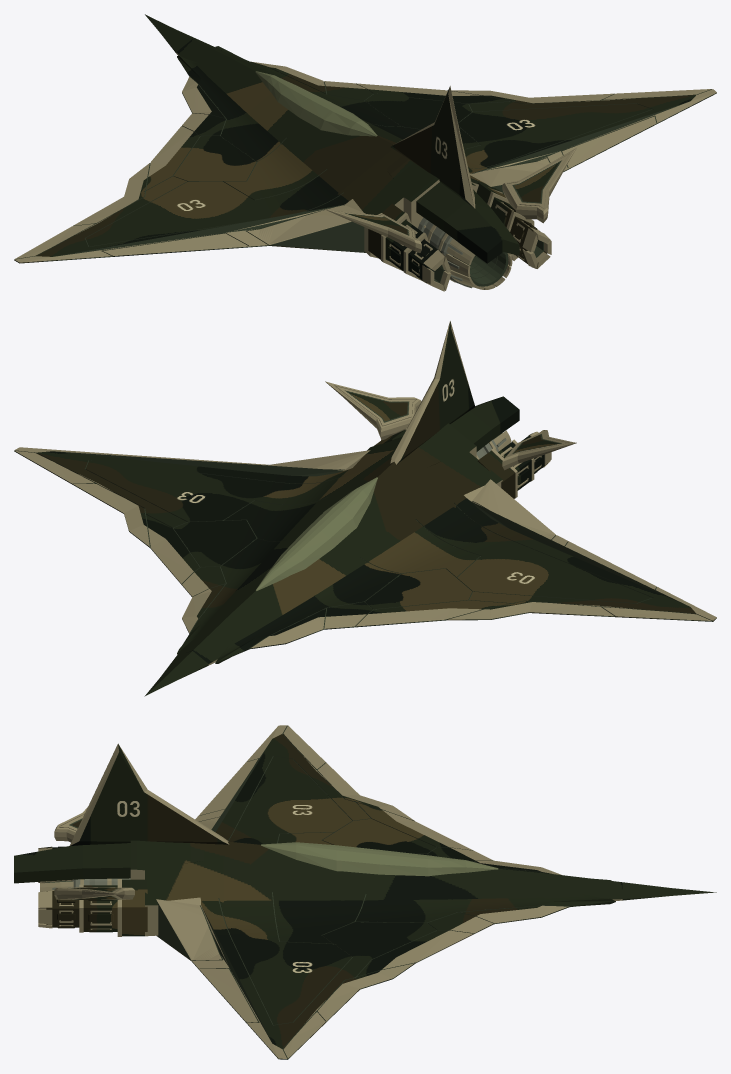
The model's file is A_military.glb.
3 renders of one model, top to bottom at view 1: azimuth 30°, elevation 25°; view 2: azimuth 150°, elevation 25°; view 3: azimuth 270°, elevation 25°, orthographic. The views are drawn at different scales.
Parts seen in each view (by area): view 1: AF_MAIN_WING_L_01, AF_MAIN_WING_R_01, AF_BODY_01, AF_MATCH_AFT_SADDLE, AF_TAIL_CENTER_01, AF_DOME_CENTER_01, AF_REAR_WING_R1_R_reference_kite_outward_canted, AF_PENTAGON_L_STEPPED_HOUSING, AF_REAR_WING_R1_R_reference_kite_outward_canted_L, AF_ENGINE_THERMAL_LINER, AF_PENTAGON_R_STEPPED_HOUSING; view 2: AF_MAIN_WING_L_01, AF_MAIN_WING_R_01, AF_BODY_01, AF_TAIL_CENTER_01, AF_DOME_CENTER_01, AF_MATCH_AFT_SADDLE, AF_REAR_WING_R1_R_reference_kite_outward_canted, AF_REAR_WING_R1_R_reference_kite_outward_canted_L, AF_PENTAGON_L_STEPPED_HOUSING; view 3: AF_MAIN_WING_R_01, AF_BODY_01, AF_MAIN_WING_L_01, AF_TAIL_CENTER_01, AF_DOME_CENTER_01, AF_MATCH_AFT_SADDLE, AF_PENTAGON_R_STEPPED_HOUSING, AF_REAR_WING_R1_R_reference_kite_outward_canted.
Part boxes in pixels (x1,y1,x2,y2): AF_MAIN_WING_L_01: [14, 55, 365, 263]; AF_MAIN_WING_R_01: [215, 46, 716, 194]; AF_BODY_01: [145, 14, 502, 258]; AF_MATCH_AFT_SADDLE: [386, 155, 519, 263]; AF_TAIL_CENTER_01: [391, 86, 475, 208]; AF_DOME_CENTER_01: [255, 71, 377, 136]; AF_REAR_WING_R1_R_reference_kite_outward_canted: [502, 148, 576, 223]; AF_PENTAGON_L_STEPPED_HOUSING: [368, 203, 444, 282]; AF_REAR_WING_R1_R_reference_kite_outward_canted_L: [325, 209, 421, 252]; AF_ENGINE_THERMAL_LINER: [453, 242, 508, 286]; AF_PENTAGON_R_STEPPED_HOUSING: [476, 182, 547, 263]; AF_MAIN_WING_L_01: [215, 479, 716, 663]; AF_MAIN_WING_R_01: [14, 447, 370, 654]; AF_BODY_01: [144, 423, 502, 696]; AF_TAIL_CENTER_01: [390, 321, 475, 464]; AF_DOME_CENTER_01: [255, 477, 377, 590]; AF_MATCH_AFT_SADDLE: [386, 396, 519, 467]; AF_REAR_WING_R1_R_reference_kite_outward_canted: [325, 381, 421, 440]; AF_REAR_WING_R1_R_reference_kite_outward_canted_L: [502, 430, 576, 470]; AF_PENTAGON_L_STEPPED_HOUSING: [477, 433, 547, 498]; AF_MAIN_WING_R_01: [156, 893, 615, 1059]; AF_BODY_01: [130, 840, 716, 936]; AF_MAIN_WING_L_01: [195, 725, 611, 880]; AF_TAIL_CENTER_01: [69, 743, 229, 845]; AF_DOME_CENTER_01: [261, 842, 498, 876]; AF_MATCH_AFT_SADDLE: [14, 842, 203, 883]; AF_PENTAGON_R_STEPPED_HOUSING: [46, 879, 147, 936]; AF_REAR_WING_R1_R_reference_kite_outward_canted: [54, 887, 134, 899].
Bounding box in the file's own units: 14.65 × 3.93 × 13.03.
20 materials, 8 textured.
